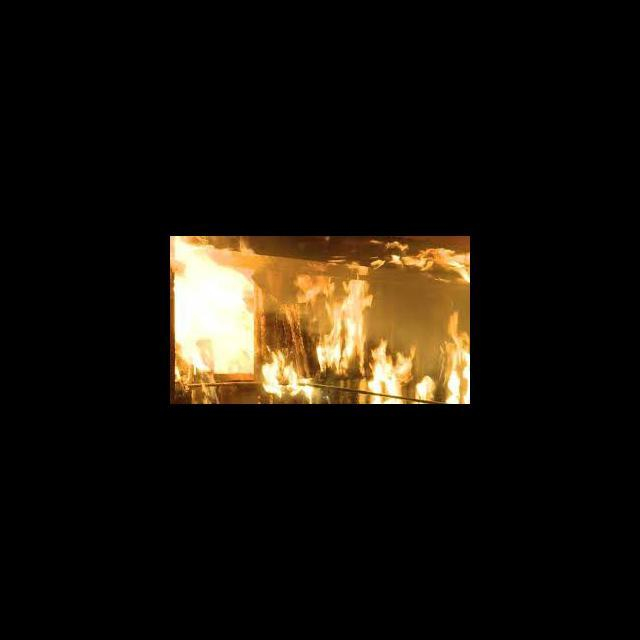Fire: (170, 237, 257, 403), (360, 308, 470, 400), (320, 277, 370, 376), (370, 236, 469, 284), (260, 346, 314, 404), (296, 269, 330, 304)
